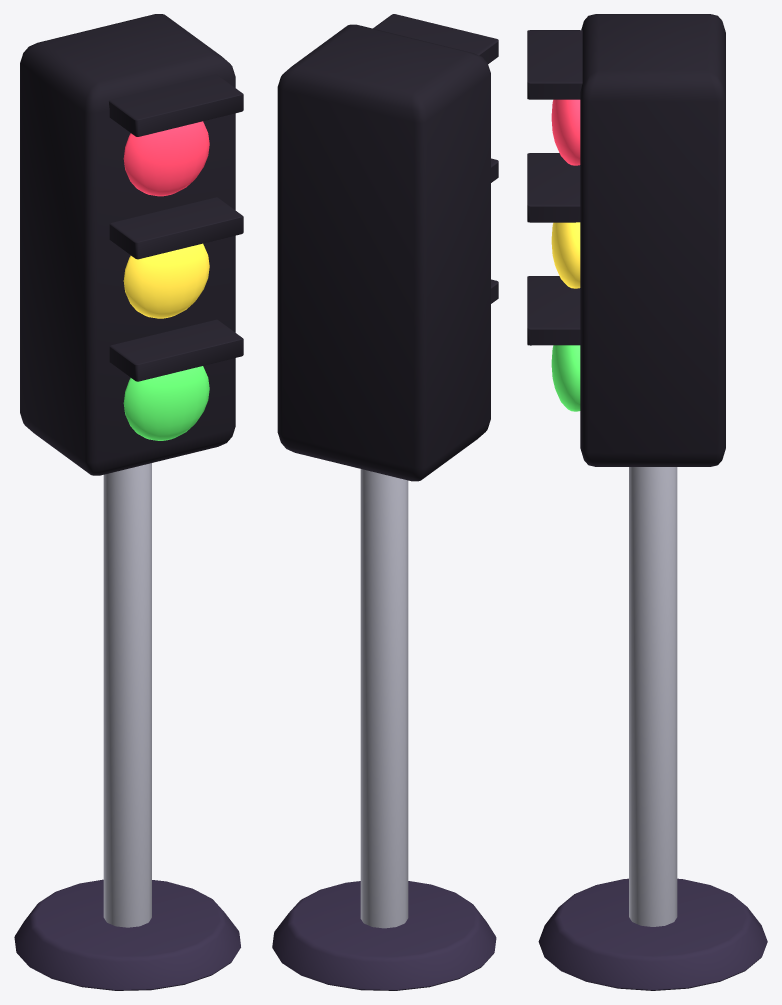
Rendered from object-traffic-light.glb.
3 views of the same model, side by side, from view 1: azimuth 30°, elevation 25°; view 2: azimuth 150°, elevation 25°; view 3: azimuth 270°, elevation 25° (orthographic).
Visible parts, largest first — view 1: Node_0-mesh, part-lamp-green-mesh, part-lamp-yellow-mesh, part-lamp-red-mesh; view 2: Node_0-mesh; view 3: Node_0-mesh, part-lamp-green-mesh, part-lamp-yellow-mesh, part-lamp-red-mesh.
Part boxes in pixels (x1,y1,x2,y2): Node_0-mesh: (14,14,243,990); part-lamp-green-mesh: (123,366,209,440); part-lamp-yellow-mesh: (123,243,209,318); part-lamp-red-mesh: (123,121,209,196); Node_0-mesh: (272,14,498,990); Node_0-mesh: (527,14,767,990); part-lamp-green-mesh: (551,345,580,411); part-lamp-yellow-mesh: (551,222,580,288); part-lamp-red-mesh: (551,99,580,165).
Bounding box in the file's own units: 0.473 × 2.05 × 0.4965.
